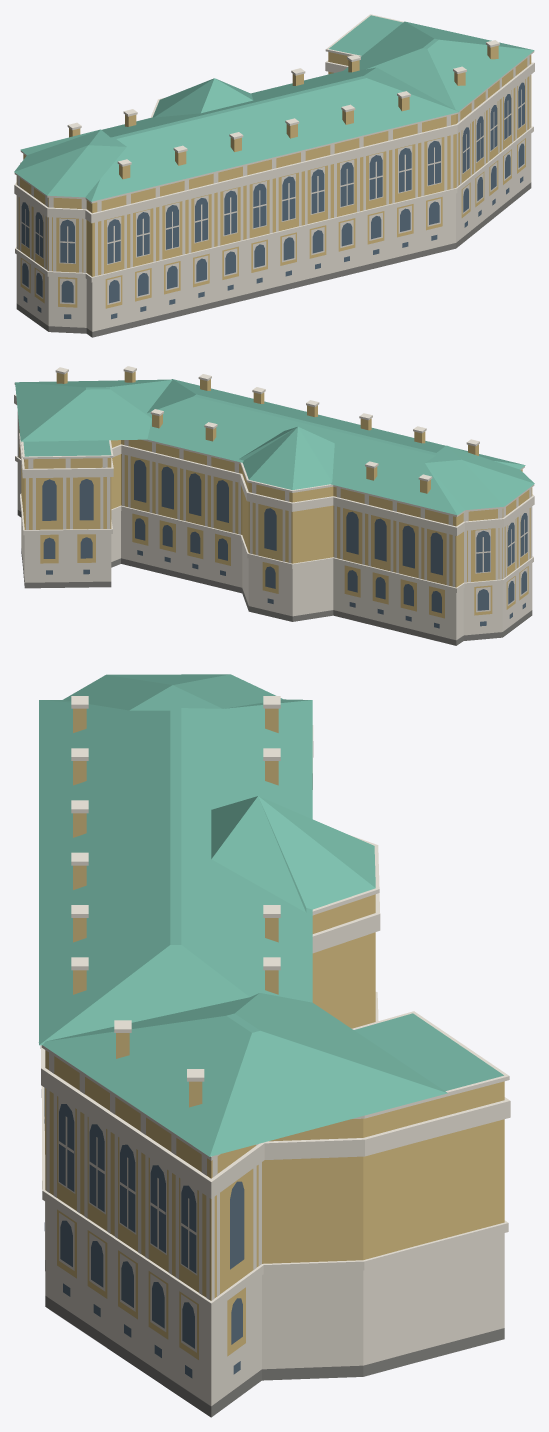
Rendered from moscow-armoury.glb.
3 views of the same model, one above another, from view 1: azimuth 30°, elevation 25°; view 2: azimuth 150°, elevation 25°; view 3: azimuth 270°, elevation 25° (orthographic). The views are drawn at different scales.
Visible parts, largest first — view 1: Armoury; view 2: Armoury; view 3: Armoury.
Boxes of the visible parts, box(x1,y1,x2,y2) form: Armoury: box(14, 14, 534, 337); Armoury: box(14, 366, 534, 645); Armoury: box(38, 674, 510, 1417).
Bounding box in the file's own units: 92.38 × 30 × 38.13.
